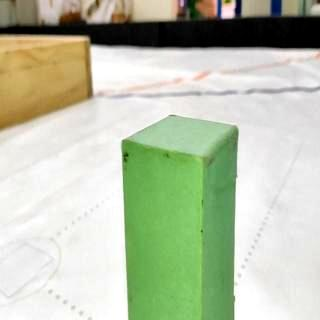greenbox: (119, 111, 238, 320)
